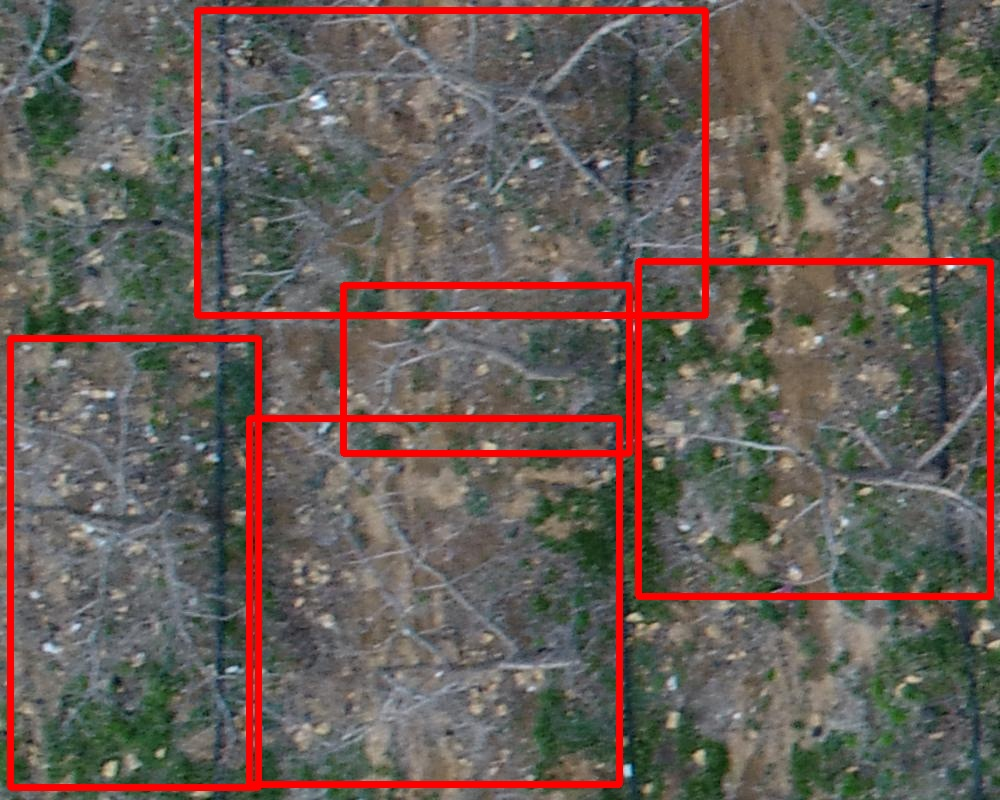apple: (197, 10, 705, 315), (249, 418, 619, 784), (638, 261, 990, 596), (10, 338, 258, 787), (343, 285, 629, 453)
